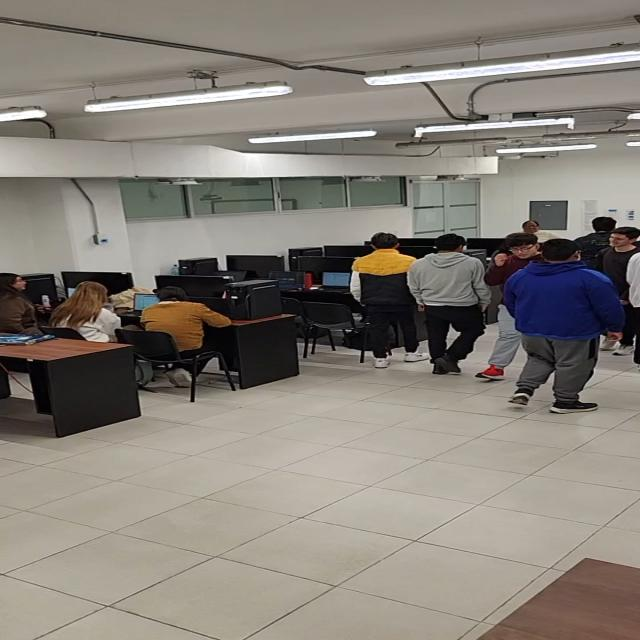Persona: (500, 237, 626, 413), (406, 233, 493, 374), (350, 232, 431, 369), (474, 231, 540, 381), (592, 226, 640, 356), (571, 216, 620, 261)
